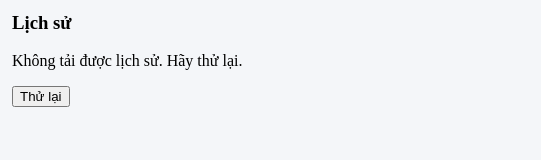
Test: shows a failure message and retries
The width and height of the screenshot is (541, 160).
expect the message reads "Không tải được lịch sử. Hãy thử lại.": met, box [12,52,242,69]
Click the button "Thử lại".
click(41, 97)  # box [12,86,70,107]
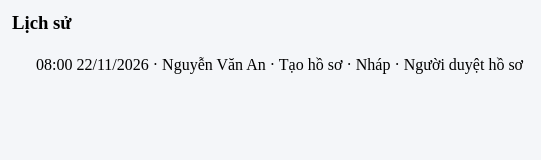
expect the text "Tạo hồ sơ" is shown: met, box [279,56,342,73]
